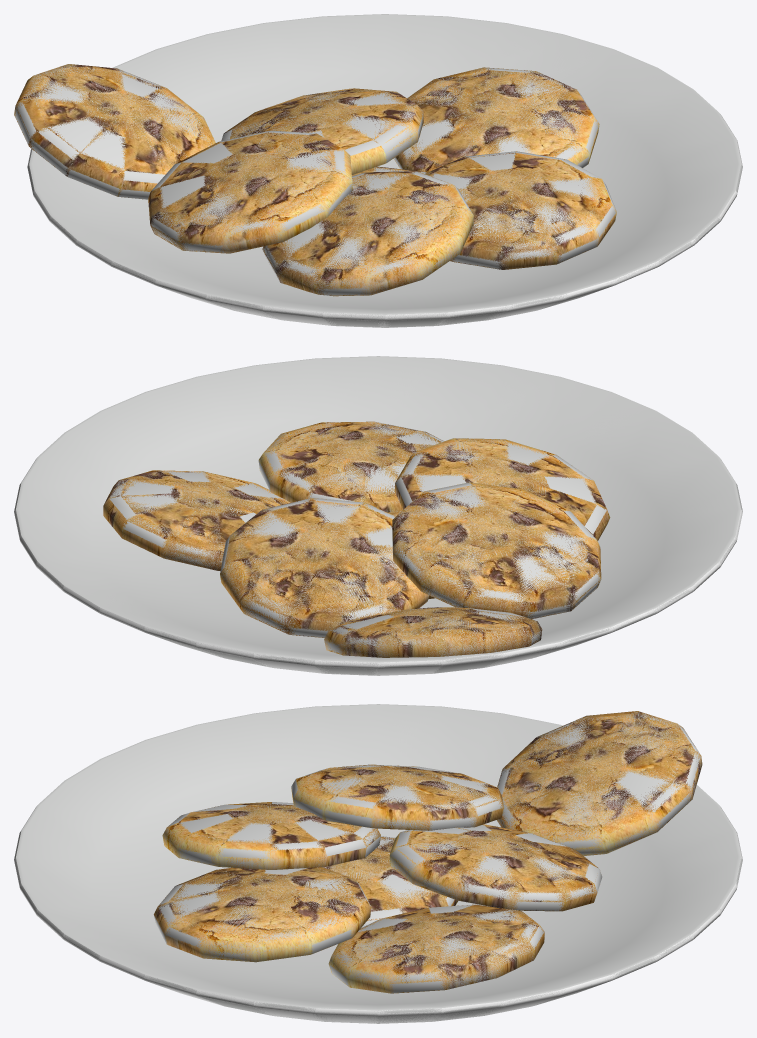
File: Plate+cookies.fbx
The picture shows the model from 3 angles, top to bottom: view 1: azimuth 30°, elevation 25°; view 2: azimuth 150°, elevation 25°; view 3: azimuth 270°, elevation 25°; orthographic projection.
Visible parts, largest first — view 1: Group1, Component_14_5, Component_14_6, Component_14_7, Component_14_3, Component_14_4, Component_14_2, Component_2_5, Component_2_20, Component_2_29, Component_2_9, Component_2_15 (+1 smaller); view 2: Group1, Component_14_5, Component_14_2, Component_14_4, Component_14_3, Component_14_7, Component_14_6, Component_2_4, Component_2_31, Component_2_11, Component_2_34, Component_2_26 (+1 smaller); view 3: Group1, Component_14_6, Component_14_3, Component_14_4, Component_14_2, Component_14_5, Component_14_7, Component_14_1, Component_2_3, Component_2_25, Component_2_8, Component_2_24 (+2 smaller).
Boxes of the visible parts, <box> form: Group1: <box>29,14,740,314</box>; Component_14_5: <box>148,130,352,253</box>; Component_14_6: <box>14,64,215,199</box>; Component_14_7: <box>262,171,473,296</box>; Component_14_3: <box>424,151,616,269</box>; Component_14_4: <box>393,67,599,172</box>; Component_14_2: <box>221,88,423,174</box>; Component_2_5: <box>323,312,385,327</box>; Component_2_20: <box>385,312,447,327</box>; Component_2_29: <box>438,306,507,325</box>; Component_2_9: <box>262,306,331,325</box>; Component_2_15: <box>206,294,280,319</box>; Group1: <box>16,356,740,662</box>; Component_14_5: <box>392,482,601,619</box>; Component_14_2: <box>220,498,429,637</box>; Component_14_4: <box>103,470,290,570</box>; Component_14_3: <box>258,421,443,512</box>; Component_14_7: <box>395,438,610,540</box>; Component_14_6: <box>324,607,542,657</box>; Component_2_4: <box>378,660,441,675</box>; Component_2_31: <box>315,660,378,675</box>; Component_2_11: <box>432,653,502,673</box>; Component_2_34: <box>254,653,324,673</box>; Component_2_26: <box>196,642,272,667</box>; Group1: <box>16,704,740,1010</box>; Component_14_6: <box>496,711,702,855</box>; Component_14_3: <box>153,867,371,962</box>; Component_14_4: <box>328,904,544,993</box>; Component_14_2: <box>389,824,602,911</box>; Component_14_5: <box>291,764,503,830</box>; Component_14_7: <box>162,802,380,869</box>; Component_14_1: <box>323,836,458,927</box>; Component_2_3: <box>378,1008,441,1023</box>; Component_2_25: <box>315,1008,378,1023</box>; Component_2_8: <box>432,1001,502,1021</box>; Component_2_24: <box>254,1001,324,1021</box>.
Bounding box in the file's own units: 0.33 × 0.0573 × 0.33.
